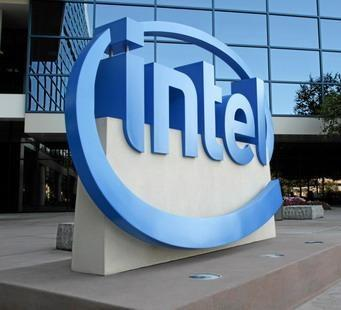intel: (63, 16, 291, 248)
